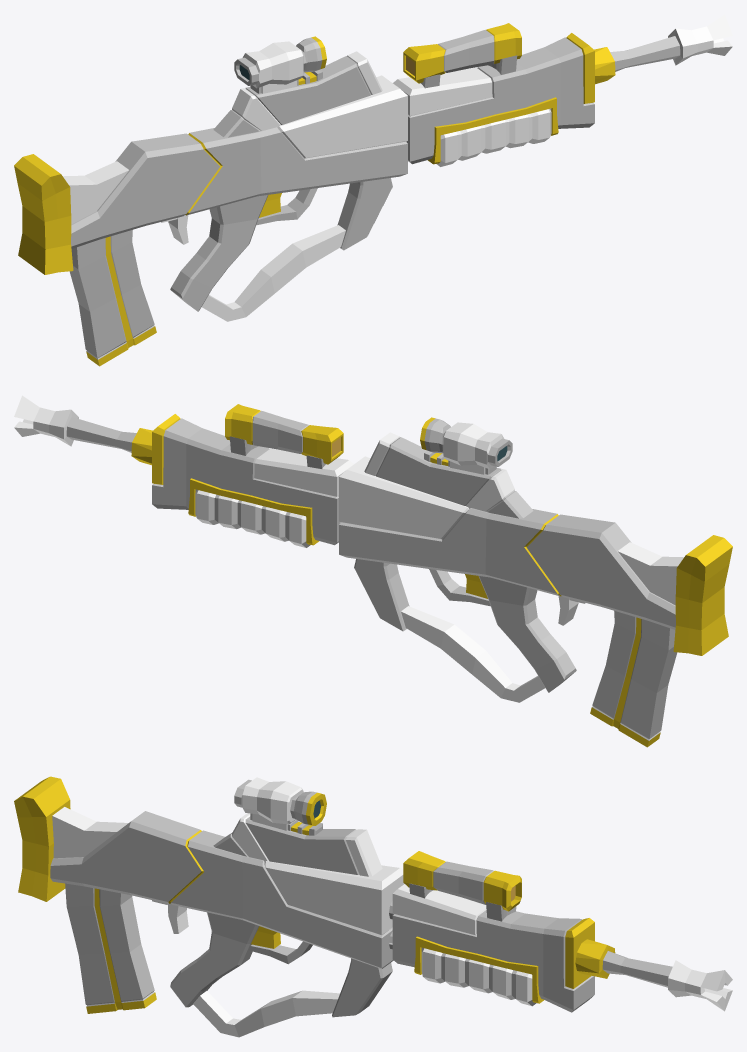
The model's file is Assault_rifle_01_Yellow.fbx.
3 renders of one model, top to bottom at view 1: azimuth 30°, elevation 25°; view 2: azimuth 150°, elevation 25°; view 3: azimuth 330°, elevation 25°, orthographic.
Visible parts, largest first — view 1: Assault_rifle_01_Yellow; view 2: Assault_rifle_01_Yellow; view 3: Assault_rifle_01_Yellow.
Part boxes in pixels (x1,y1,x2,y2): Assault_rifle_01_Yellow: (14,14,732,366); Assault_rifle_01_Yellow: (14,395,732,747); Assault_rifle_01_Yellow: (14,776,732,1037).
Size of the model in its own units: 96.05 by 35.4 by 6.57.
Materials: 1 (1 with a texture image).
